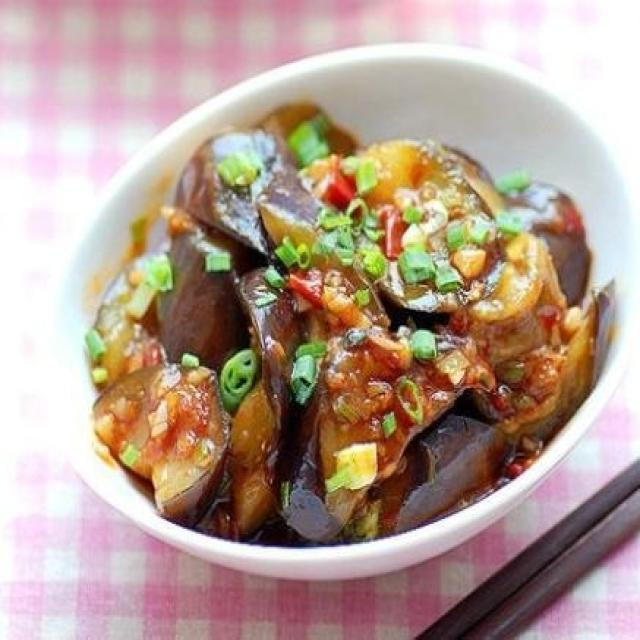鸡蛋料理: (56, 40, 620, 585)
